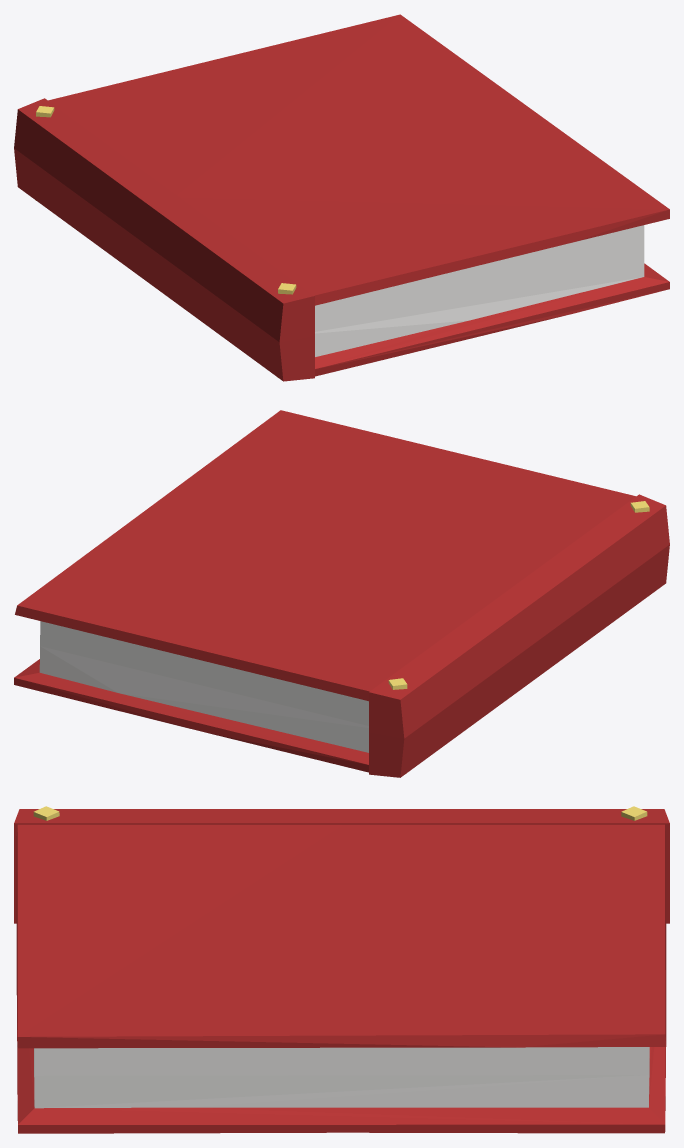
Rendered from Book_1.fbx.
3 renders of one model, top to bottom at view 1: azimuth 30°, elevation 25°; view 2: azimuth 150°, elevation 25°; view 3: azimuth 270°, elevation 25°, orthographic. The views are drawn at different scales.
Parts seen in each view (by area): view 1: Book_1; view 2: Book_1; view 3: Book_1.
Boxes of the visible parts, box(x1,y1,x2,y2) form: Book_1: box(14, 14, 669, 381); Book_1: box(14, 410, 669, 777); Book_1: box(14, 806, 669, 1133).
Size of the model in its own units: 17.12 by 20.55 by 3.73.
